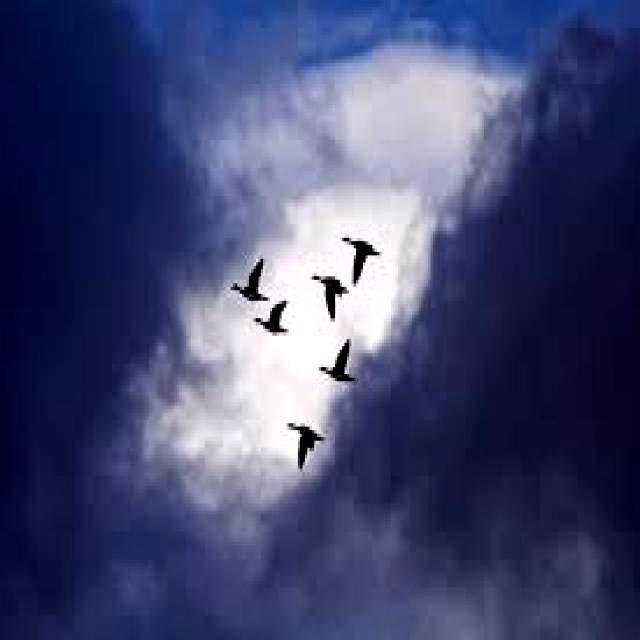bird: (262, 394, 338, 492), (316, 325, 374, 413), (299, 259, 362, 322), (344, 216, 394, 282), (228, 248, 277, 315), (246, 304, 294, 350)
